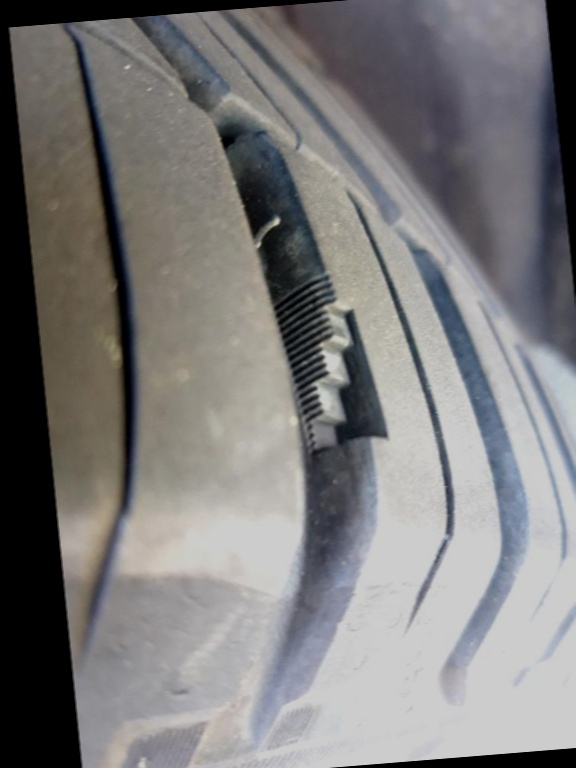temoin:90: (263, 261, 399, 465)
